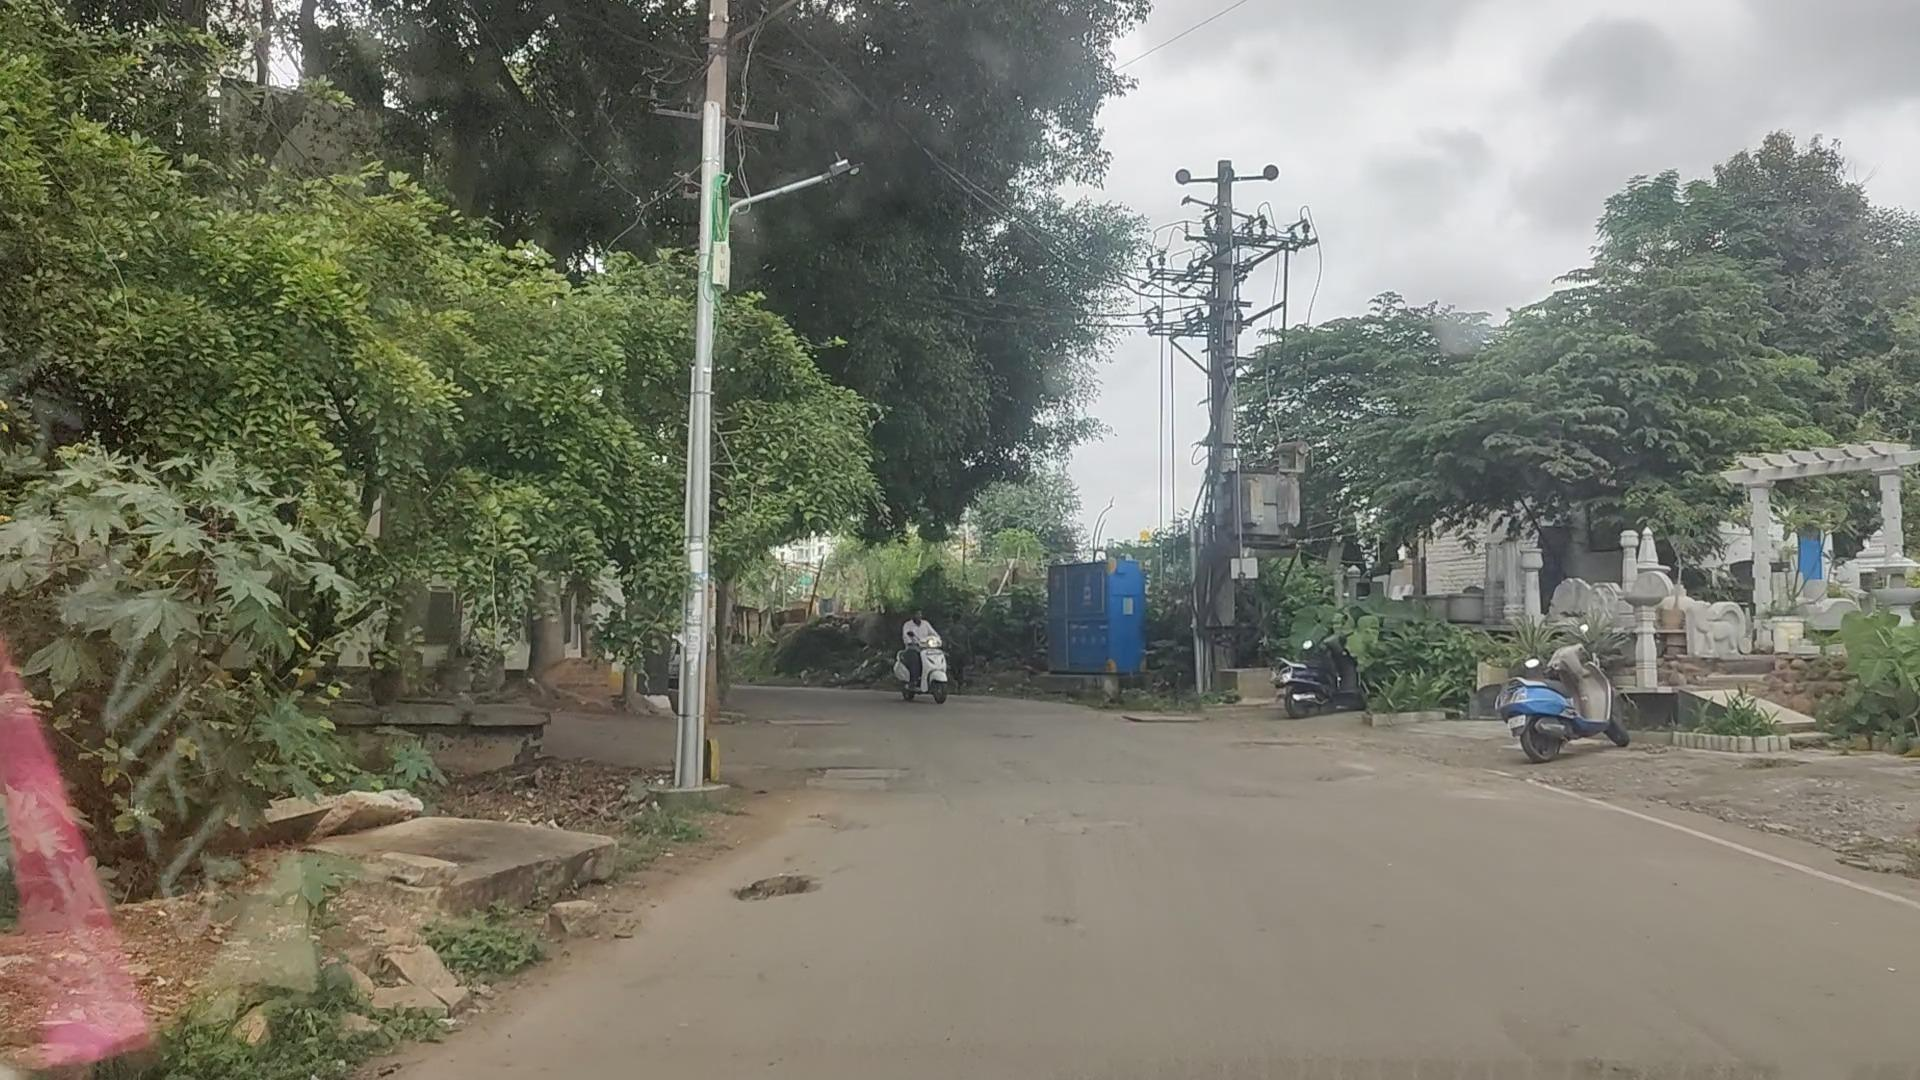RoadDamages: (736, 853, 822, 918), (810, 758, 920, 808)
